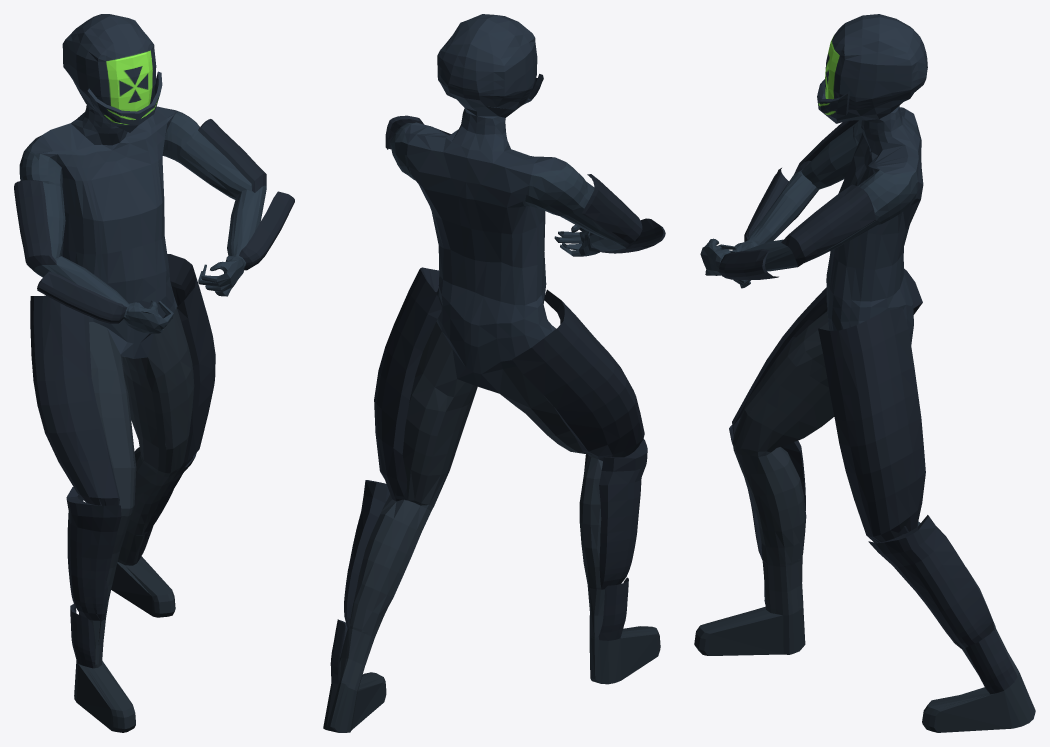
Rendered from Bastion_Stun_000007.obj.
The picture shows the model from 3 angles, left to right: view 1: azimuth 30°, elevation 25°; view 2: azimuth 150°, elevation 25°; view 3: azimuth 270°, elevation 25°; orthographic projection. The views are drawn at different scales.
Visible parts, largest first — view 1: Cube.002; view 2: Cube.002; view 3: Cube.002.
Boxes of the visible parts, bbox=[...] form: Cube.002: bbox=[14, 14, 294, 732]; Cube.002: bbox=[323, 14, 665, 732]; Cube.002: bbox=[694, 14, 1035, 732].
Size of the model in its own units: 1.51 by 3.68 by 1.7.
